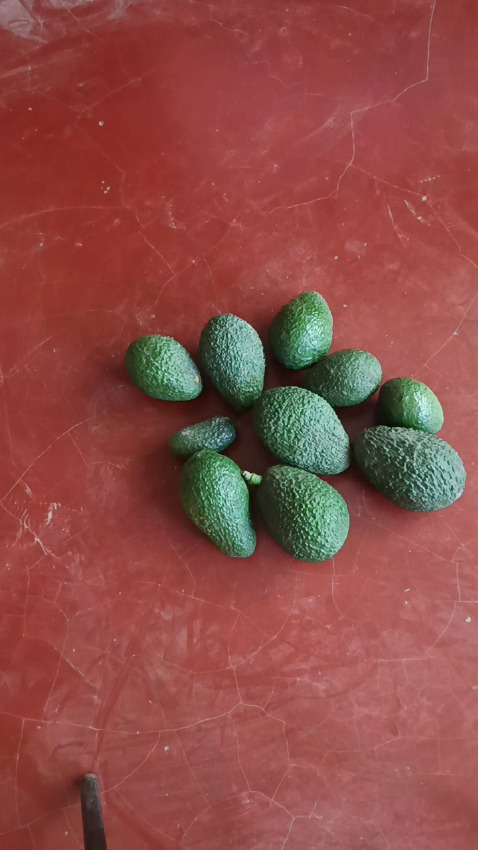Primera: (352, 426, 465, 511), (255, 464, 350, 559), (251, 385, 350, 475), (177, 450, 256, 556), (198, 314, 266, 410)
Segunda: (124, 334, 203, 401), (268, 291, 333, 370)
Tercera: (300, 350, 383, 408), (376, 377, 444, 433), (170, 416, 237, 460)
